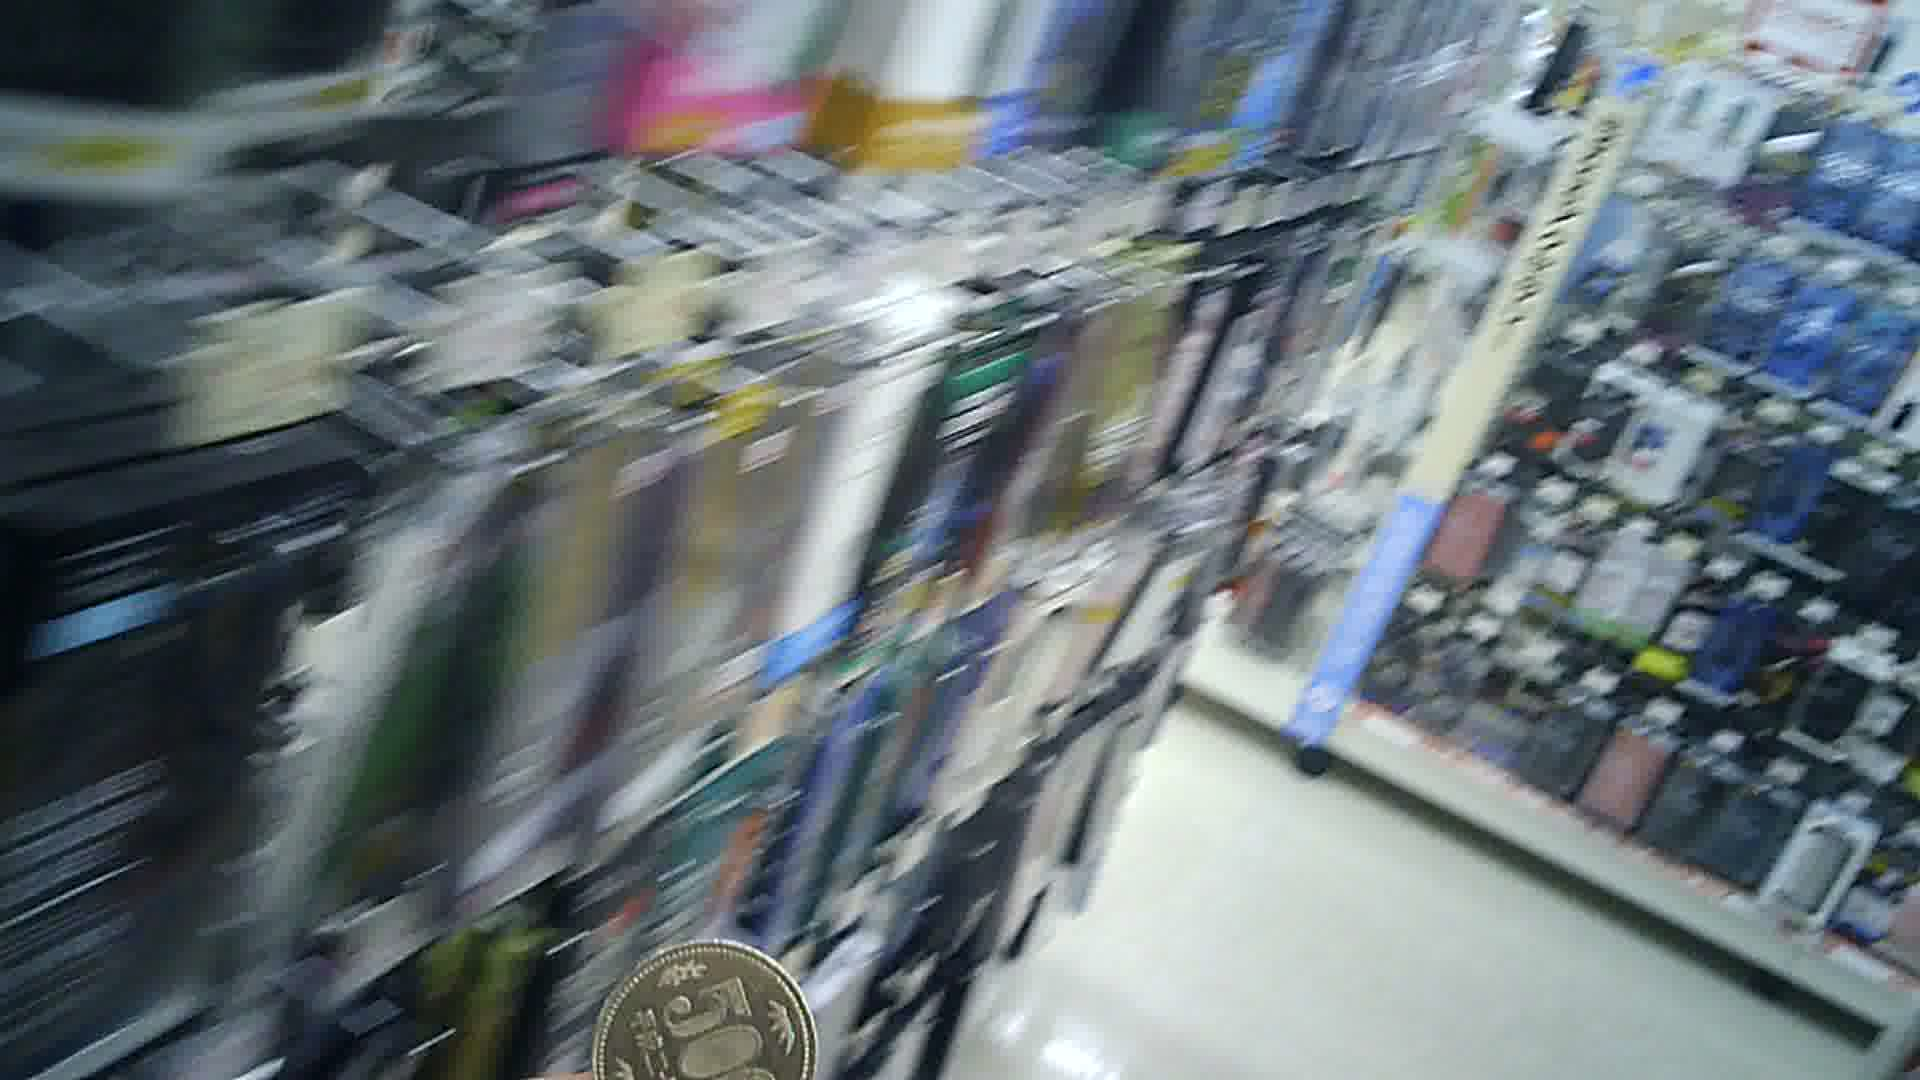500 Yen: (584, 936, 822, 1079)
